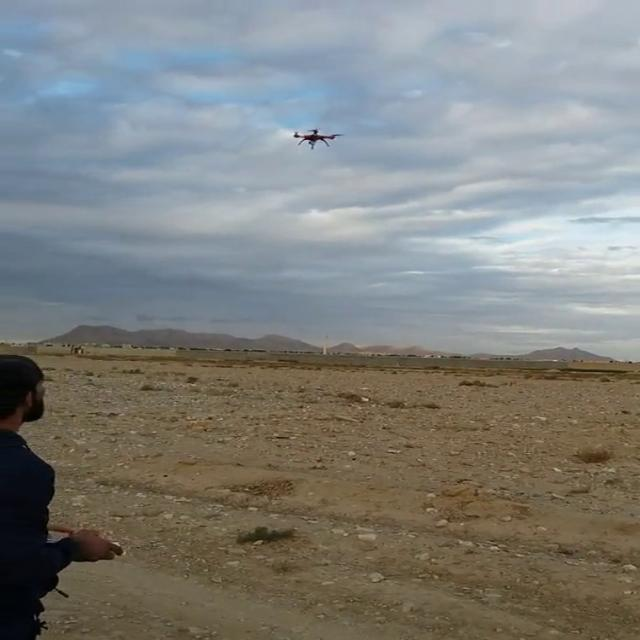drone: (288, 124, 345, 151)
